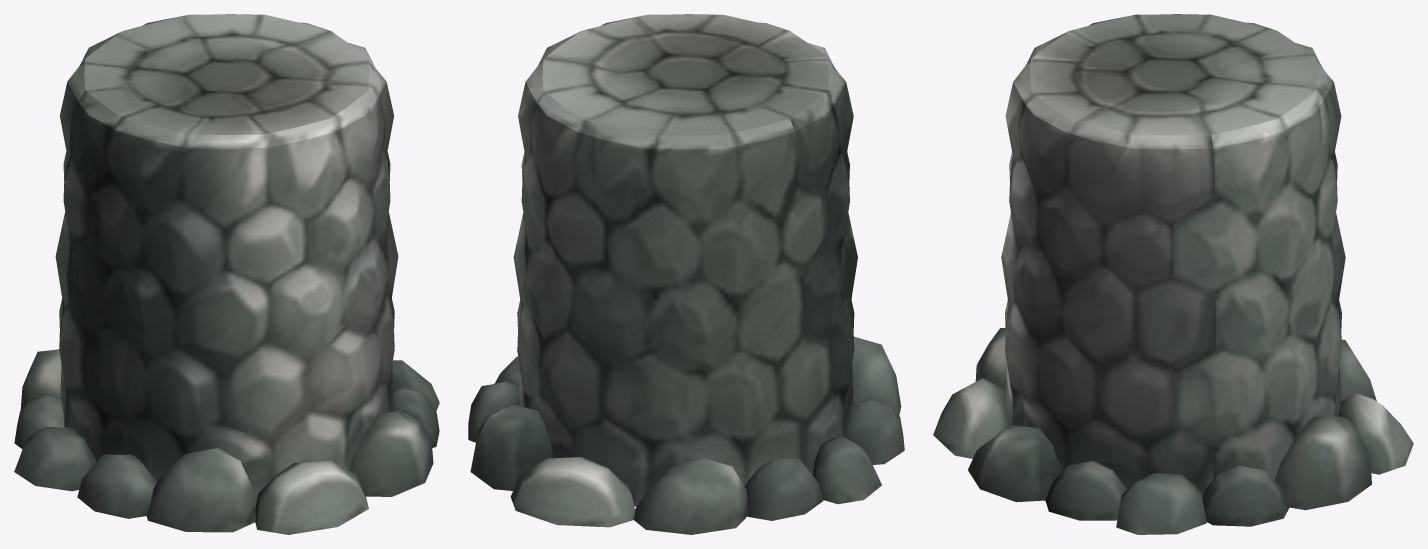
Rendered from rock_ALL.fbx.
The picture shows the model from 3 angles, left to right: view 1: azimuth 30°, elevation 25°; view 2: azimuth 150°, elevation 25°; view 3: azimuth 270°, elevation 25°; orthographic projection.
Visible parts, largest first — view 1: rock_color; view 2: rock_color; view 3: rock_color.
Part boxes in pixels (x1,y1,x2,y2): rock_color: [14, 14, 439, 534]; rock_color: [468, 14, 904, 534]; rock_color: [933, 14, 1413, 534].
Bounding box in the file's own units: 17.2 × 15.28 × 18.27.
1 material, 1 textured.
